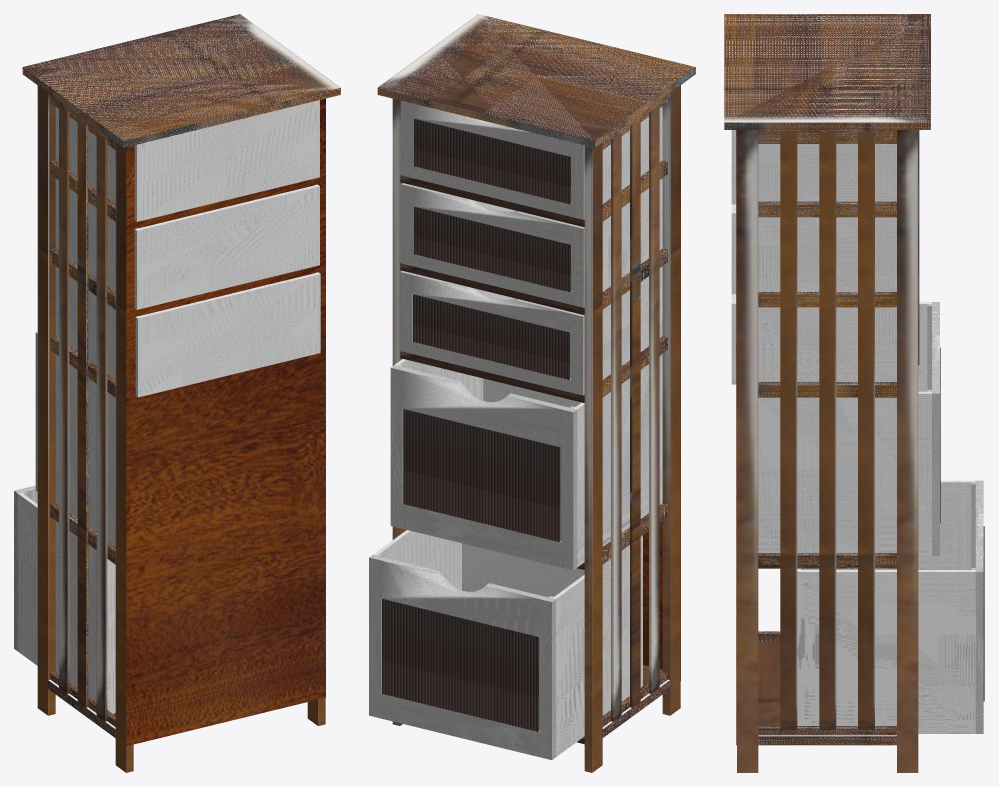
3 views of the same model, side by side, from view 1: azimuth 30°, elevation 25°; view 2: azimuth 150°, elevation 25°; view 3: azimuth 270°, elevation 25° (orthographic). The views are drawn at different scales.
Visible parts, largest first — view 1: mesh1_mesh1-geometry, mesh113_mesh113-geometry, mesh223_mesh223-geometry, mesh3_mesh3-geometry, mesh220_mesh220-geometry, mesh7_mesh7-geometry; view 2: mesh220_mesh220-geometry, mesh223_mesh223-geometry, mesh113_mesh113-geometry, mesh3_mesh3-geometry, mesh7_mesh7-geometry, mesh5_mesh5-geometry, mesh1_mesh1-geometry, mesh138_mesh138-geometry, mesh170_mesh170-geometry, mesh174_mesh174-geometry, mesh212_mesh212-geometry, mesh118_mesh118-geometry (+68 smaller); view 3: mesh220_mesh220-geometry, mesh7_mesh7-geometry, mesh3_mesh3-geometry, mesh223_mesh223-geometry, mesh113_mesh113-geometry, mesh224_mesh224-geometry, mesh5_mesh5-geometry, mesh228_mesh228-geometry, mesh225_mesh225-geometry, mesh226_mesh226-geometry, mesh227_mesh227-geometry, mesh1_mesh1-geometry.
Boxes of the visible parts, box(x1,y1,x2,y2) form: mesh1_mesh1-geometry: box(126, 98, 325, 746); mesh113_mesh113-geometry: box(55, 100, 320, 397); mesh223_mesh223-geometry: box(22, 14, 340, 737); mesh3_mesh3-geometry: box(37, 85, 325, 772); mesh220_mesh220-geometry: box(14, 332, 115, 713); mesh7_mesh7-geometry: box(59, 105, 107, 721); mesh220_mesh220-geometry: box(369, 354, 662, 759); mesh223_mesh223-geometry: box(377, 14, 695, 737); mesh113_mesh113-geometry: box(400, 100, 662, 395); mesh3_mesh3-geometry: box(392, 85, 680, 772); mesh7_mesh7-geometry: box(611, 105, 659, 721); mesh5_mesh5-geometry: box(400, 175, 662, 744); mesh1_mesh1-geometry: box(643, 85, 680, 680); mesh138_mesh138-geometry: box(454, 426, 478, 711); mesh170_mesh170-geometry: box(451, 426, 475, 711); mesh174_mesh174-geometry: box(427, 420, 451, 705); mesh212_mesh212-geometry: box(439, 423, 463, 708); mesh118_mesh118-geometry: box(511, 440, 536, 725); mesh220_mesh220-geometry: box(758, 302, 983, 733); mesh7_mesh7-geometry: box(780, 132, 874, 729); mesh3_mesh3-geometry: box(737, 130, 918, 772); mesh223_mesh223-geometry: box(724, 14, 930, 642); mesh113_mesh113-geometry: box(731, 130, 896, 384); mesh224_mesh224-geometry: box(758, 726, 896, 745); mesh5_mesh5-geometry: box(758, 642, 780, 725); mesh228_mesh228-geometry: box(758, 201, 896, 217); mesh225_mesh225-geometry: box(758, 553, 896, 568); mesh226_mesh226-geometry: box(758, 382, 896, 397); mesh227_mesh227-geometry: box(758, 292, 896, 307); mesh1_mesh1-geometry: box(736, 130, 736, 745).
Bounding box in the file's own units: 0.3179 × 0.892 × 0.3213.
